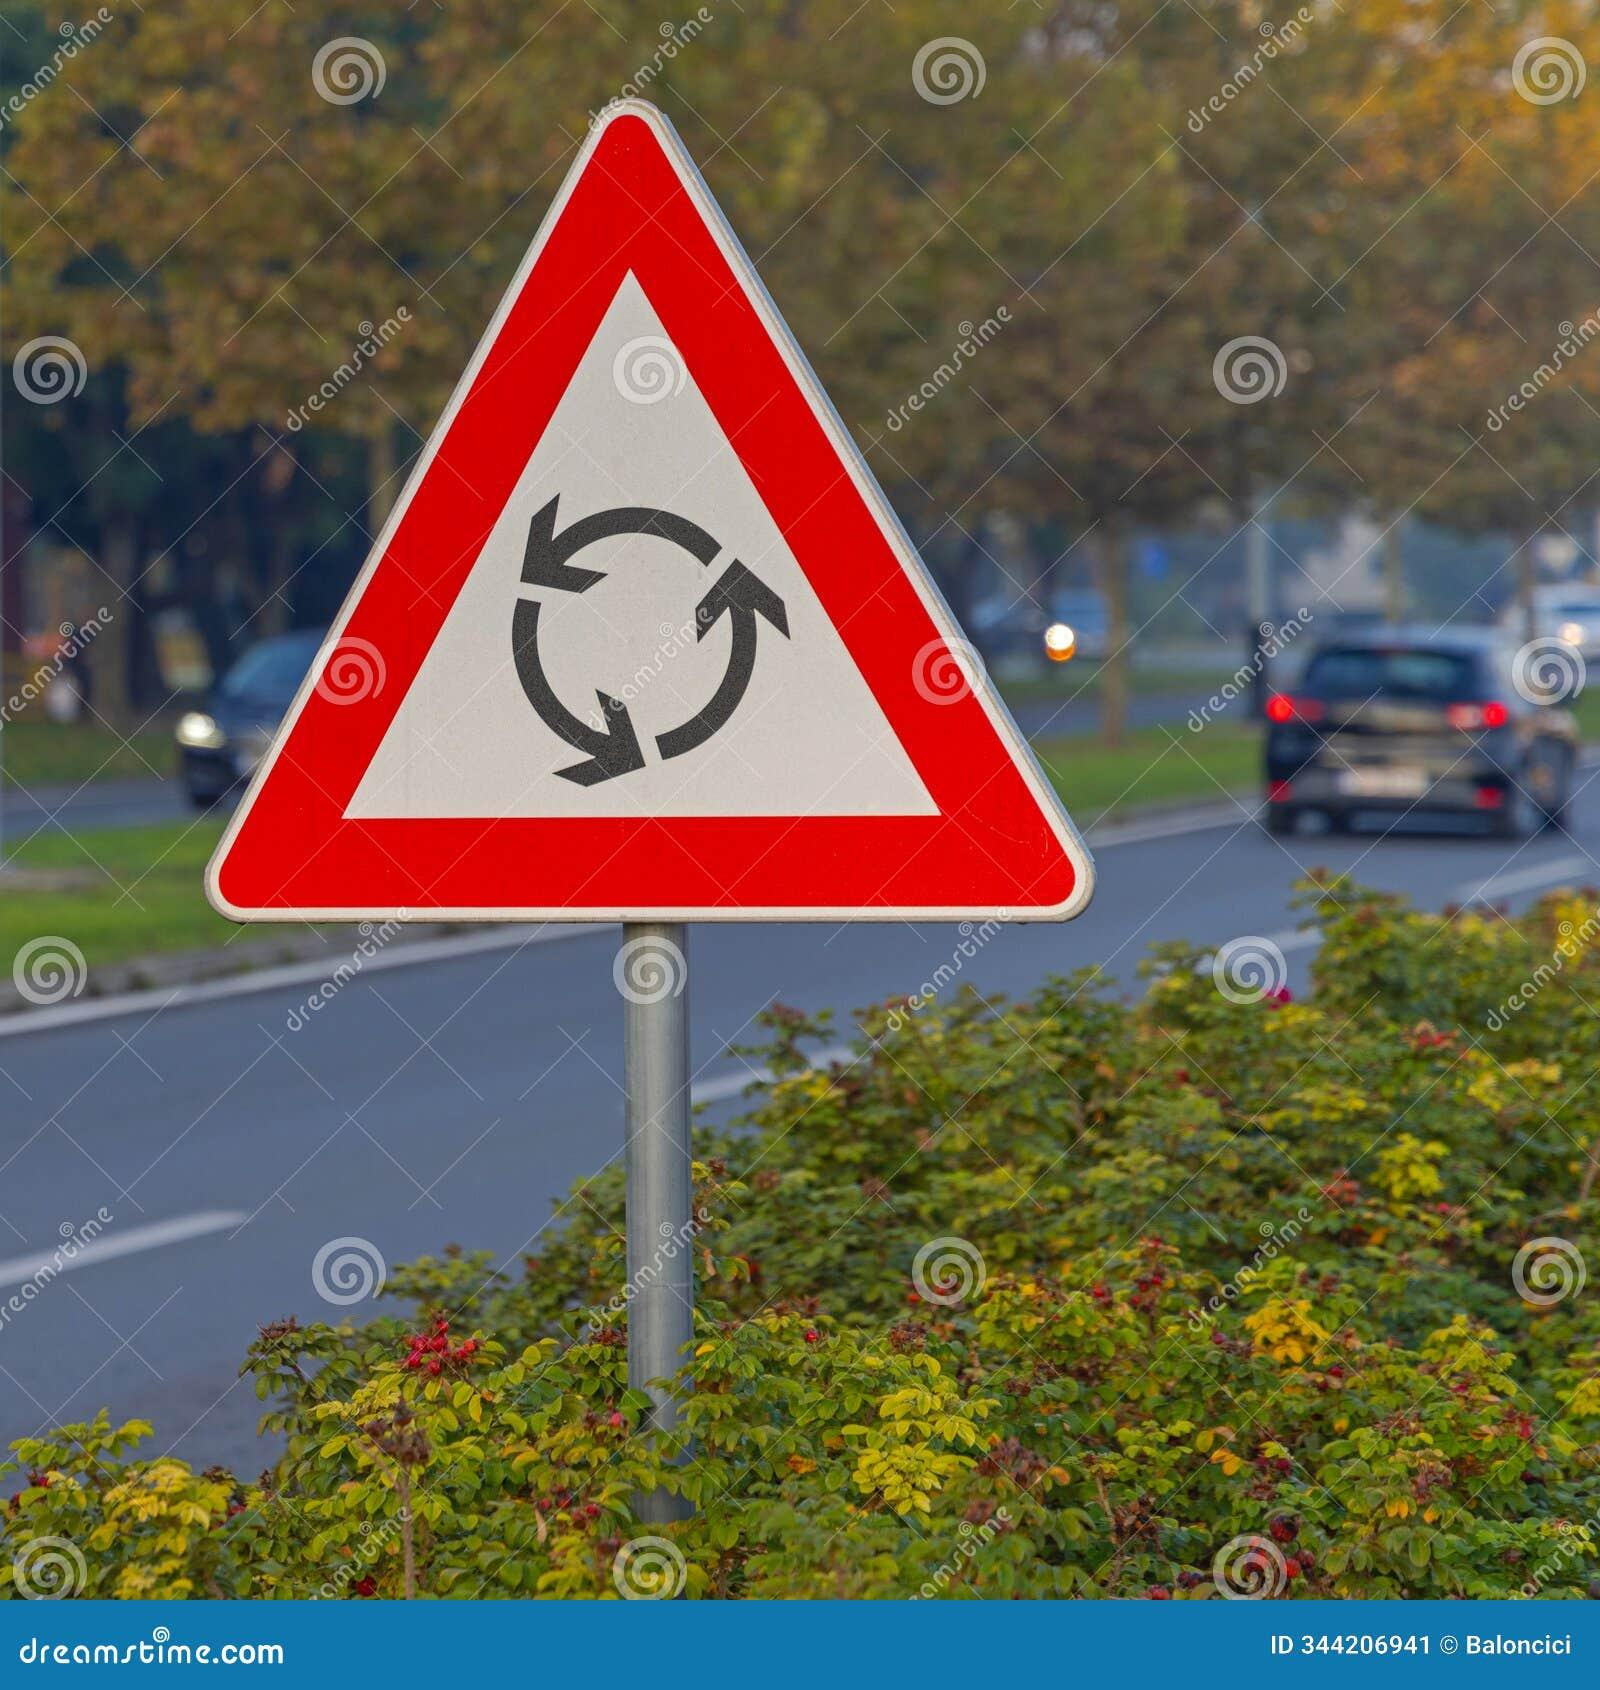round-about: (223, 102, 1089, 922)
